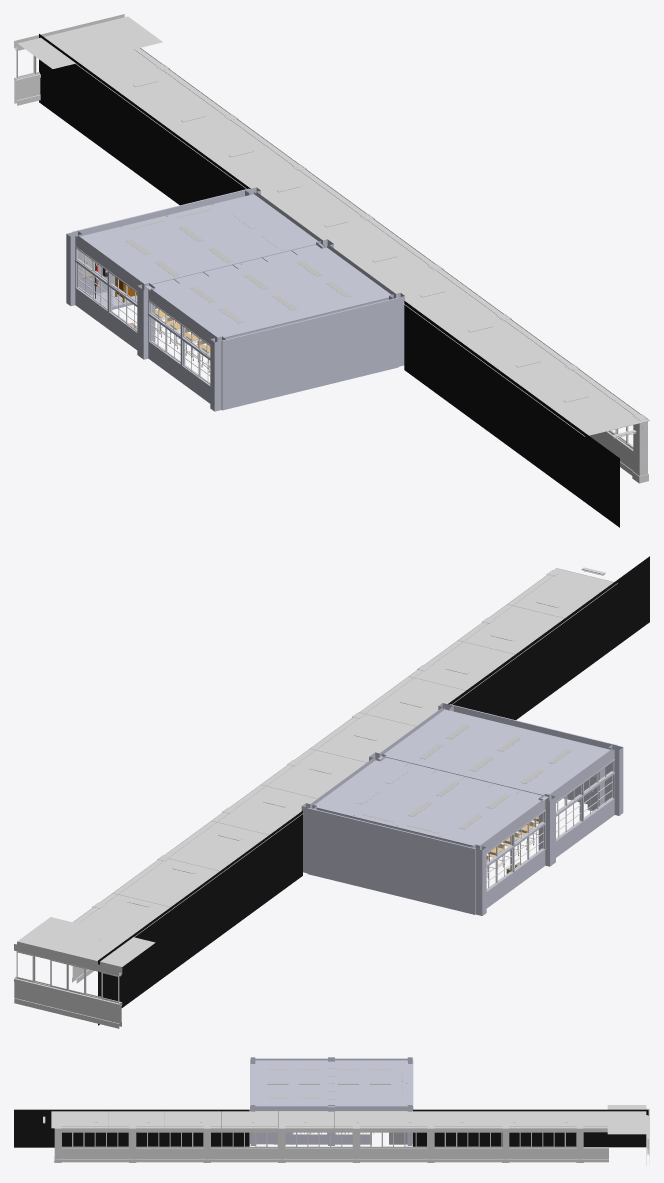
The model's file is classroom_extended.glb.
The picture shows the model from 3 angles, top to bottom: view 1: azimuth 30°, elevation 25°; view 2: azimuth 150°, elevation 25°; view 3: azimuth 270°, elevation 25°; orthographic projection. The views are drawn at different scales.
Visible parts, largest first — view 1: 69_Walls, 50_Hallway, 04_Black, 05_Black, 74_WindowFrame, 02_CeilingLight; view 2: 69_Walls, 50_Hallway, 05_Black, 04_Black, 74_WindowFrame, 02_CeilingLight; view 3: 50_Hallway, 69_Walls, 04_Black, 05_Black, 02_CeilingLight, 73_Wall.
Part boxes in pixels (<box>): 69_Walls: <box>66,187,404,411</box>; 50_Hallway: <box>14,14,649,483</box>; 04_Black: <box>404,301,619,527</box>; 05_Black: <box>39,34,250,205</box>; 74_WindowFrame: <box>76,249,210,384</box>; 02_CeilingLight: <box>125,208,350,323</box>; 69_Walls: <box>301,703,623,915</box>; 50_Hallway: <box>14,567,617,1028</box>; 05_Black: <box>98,810,302,1025</box>; 04_Black: <box>448,556,649,719</box>; 74_WindowFrame: <box>486,761,613,889</box>; 02_CeilingLight: <box>361,724,571,833</box>; 50_Hallway: <box>43,1105,649,1165</box>; 69_Walls: <box>250,1057,413,1145</box>; 04_Black: <box>14,1109,249,1147</box>; 05_Black: <box>413,1109,648,1147</box>; 02_CeilingLight: <box>267,1068,403,1098</box>; 73_Wall: <box>389,1132,407,1144</box>.
Size of what is drawn, in the model's own units: 12.72 by 3.22 by 46.54.
43 materials, 3 textured.
